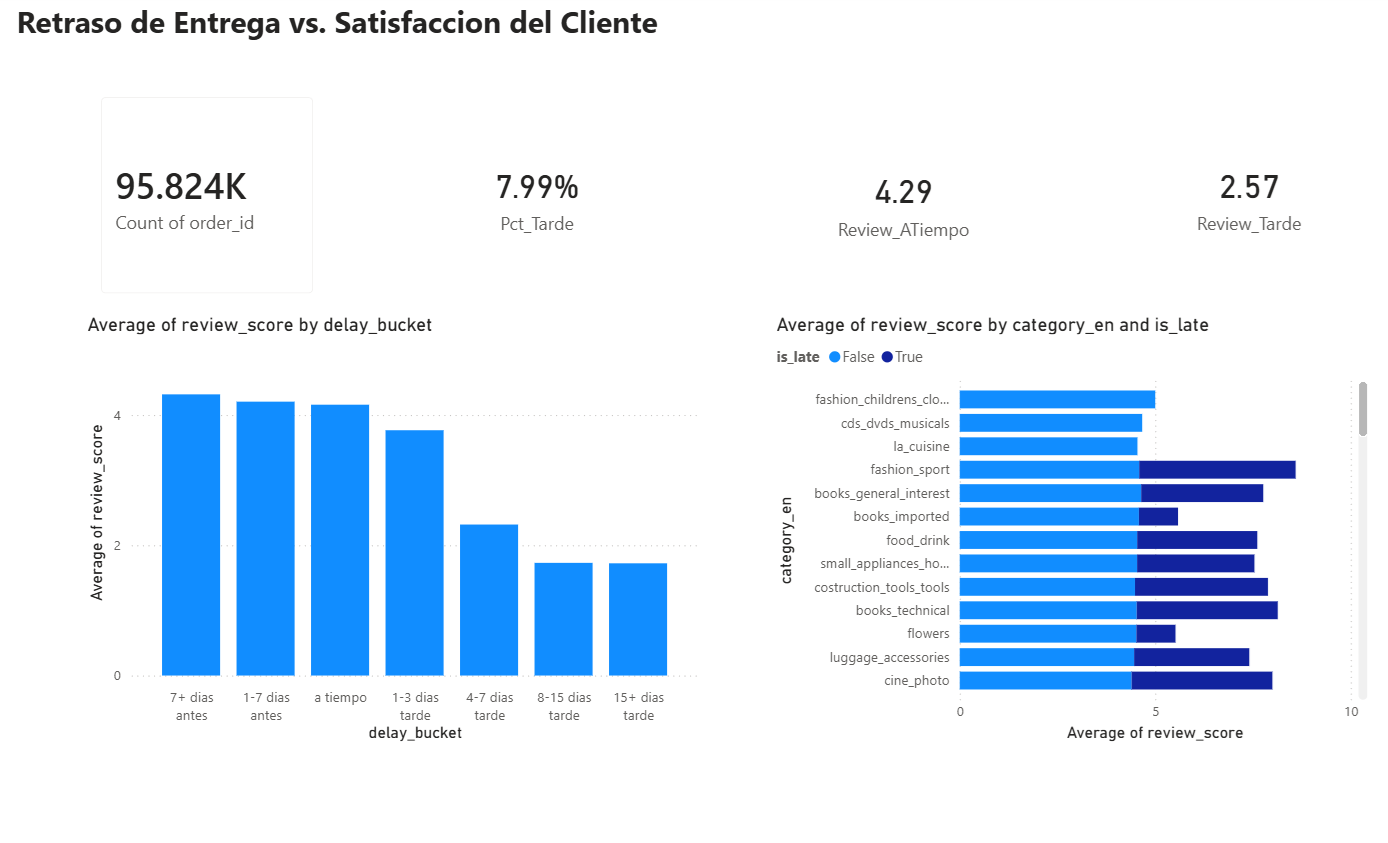

The page's visual inventory and layout, read from the dashboard file:
{"tool":"powerbi","page":{"name":"Page 1","canvas":[1280,720],"ordinal":0},"visuals":[{"type":"cardVisual","fields":{"Data":["CountNonNull(olist_delay_review.order_id)"]},"box":[83.3,74.3,224.8,210.4],"z":1000},{"type":"textbox","box":[20,0,800,60],"z":3500},{"type":"clusteredColumnChart","fields":{"Category":["olist_delay_review.delay_bucket"],"Y":["Avg(olist_delay_review.review_score)"]},"box":[83.3,284.8,557,388.7],"z":5000},{"type":"barChart","fields":{"Category":["olist_delay_review.category_en"],"Y":["Avg(olist_delay_review.review_score)"],"Series":["olist_delay_review.is_late"]},"box":[700.3,284.8,539.1,388.7],"z":6000},{"type":"card","fields":{"Values":["olist_delay_review.Review_ATiempo"]},"box":[700.3,94.9,237.3,180],"z":6001},{"type":"card","fields":{"Values":["olist_delay_review.Pct_Tarde"]},"box":[372.5,94,236.4,171.9],"z":6002},{"type":"card","fields":{"Values":["olist_delay_review.Review_Tarde"]},"box":[1017.3,85.1,222.1,189.9],"z":6003}]}

Visuals, with their boxes on the page's 1280x720 design canvas (x1, y1, x2, y2). These are canvas units, not pixel positions in the 1388x843 screenshot, which may show the page scaled, cropped or inside an application window:
cardVisual - CountNonNull(olist_delay_review.order_id): (x1=83, y1=74, x2=308, y2=285)
textbox: (x1=20, y1=0, x2=820, y2=60)
clusteredColumnChart - olist_delay_review.delay_bucket x Avg(olist_delay_review.review_score): (x1=83, y1=285, x2=640, y2=674)
barChart - olist_delay_review.category_en x Avg(olist_delay_review.review_score): (x1=700, y1=285, x2=1239, y2=674)
card - olist_delay_review.Review_ATiempo: (x1=700, y1=95, x2=938, y2=275)
card - olist_delay_review.Pct_Tarde: (x1=372, y1=94, x2=609, y2=266)
card - olist_delay_review.Review_Tarde: (x1=1017, y1=85, x2=1239, y2=275)
